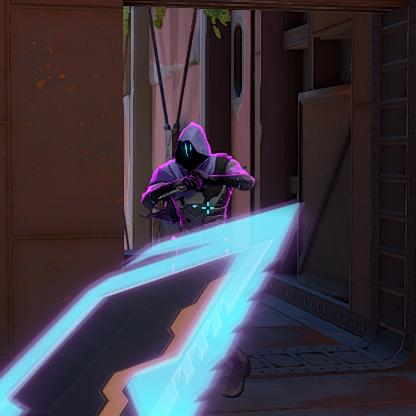enemyBody: (176, 171, 215, 225)
enemyHead: (179, 133, 205, 163)
